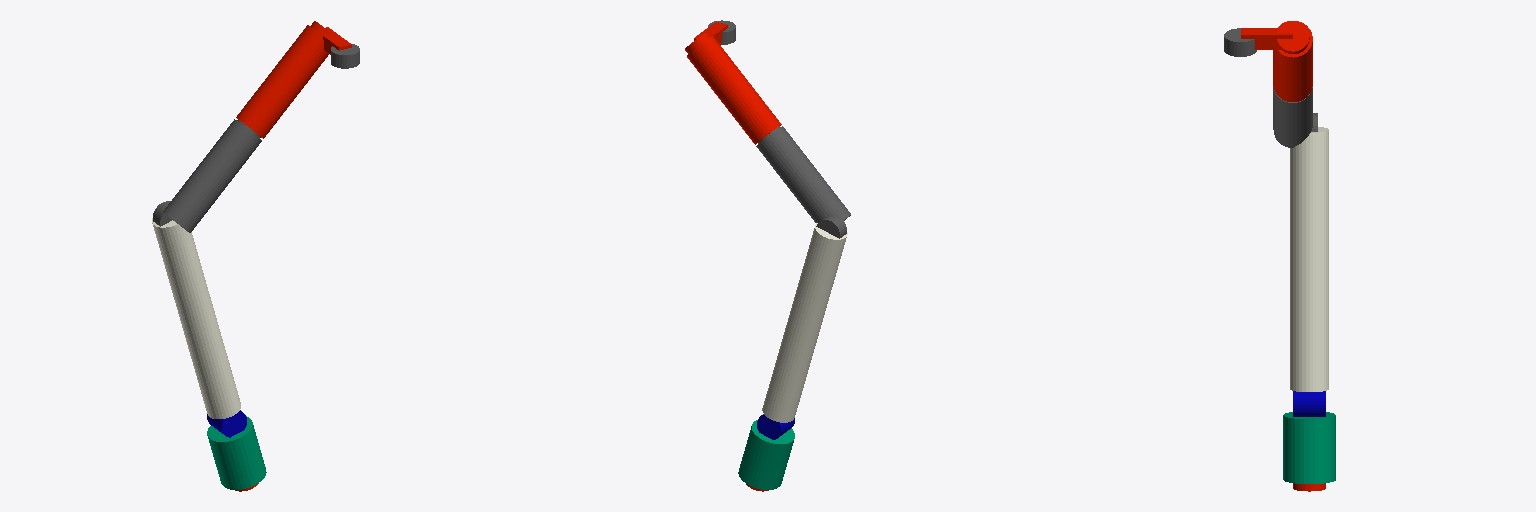
robot.urdf — prosthetic:
<?xml version="0.0" ?>
<robot name="prosthetic" >



<material name="scarlet">
    <color rgba="0.89 0.13 0.0 1"/>
</material>
<material name="grey">
    <color rgba="0.4 0.4 0.4 1.0"/>
</material>
 <material name="silver">
    <color rgba="0.913725490196 0.913725490196 0.847058823529 1.0"/>
  </material>



  <link name="link0"/>
  <joint name="joint0" type="revolute">
    <parent link="link0"/>
    <child link="jlink0"/>
    <origin rpy="0 0 0" xyz="0 0 0"/> 
    <axis xyz="0 0 1"/>
    <limit lower="-3.1415" upper="3.1415" effort="1.4" velocity="0.25"/>
  </joint>

  <link name="jlink0">
    <inertial>
      <origin rpy="0 0 0" xyz="0 0 0"/>
       <mass value=".01"/>
       <inertia ixx="0" ixy="0" ixz="0" iyy="0" iyz="0" izz="0"/>
    </inertial>
    <visual>
      <origin rpy="0 0 0" xyz="0 0 0"/>
      <geometry>
        <cylinder radius="0.025" length="0.025"/>
      </geometry>
       <material name="grey"/>
    </visual>
    <collision>
      <origin rpy="0 0 0" xyz="0 0 0"/>
      <geometry>
        <cylinder radius="0.025" length="0.025"/>
      </geometry>
    </collision>
  </link>

  <link name="link1">
    <inertial>
      <origin rpy="0 0 0" xyz="0 0 0"/>
       <mass value=".000000001"/>
       <inertia ixx="0" ixy="0" ixz="0" iyy="0" iyz="0" izz="0"/>
    </inertial>
    <visual>
      <origin rpy="0 0 0" xyz="0 0 0"/>
      <geometry>
       <!-- <cylinder radius="0.025" length="0.125"/> -->
       <box size = "0.025 0.08 0.025"/>
      </geometry>
       <material name="scarlet"/> 
    </visual>
    <collision>
      <origin rpy="0 0 0" xyz="0 0 0"/>
      <geometry>
       <box size = "0.025 0.08 0.025"/>
      </geometry>
    </collision>
  </link>

  <joint name="joint1f" type="fixed">
    <parent link="jlink0"/>
    <child link="link1"/>
    <origin rpy="0 0 0" xyz="0 0.04 0.00625"/> 
  </joint>

  <link name="jlink1">
    <inertial>
      <origin rpy="0 0 0" xyz="0 0 0"/>
       <mass value=".01"/>
       <inertia ixx="0" ixy="0" ixz="0" iyy="0" iyz="0" izz="0"/>
    </inertial>
    <visual>
      <origin rpy="0 0 0" xyz="0 0 0"/>
      <geometry>
        <cylinder radius="0.025" length="0.025"/>
      </geometry>
       <material name="scarlet"/>
    </visual>
    <collision>
      <origin rpy="0 0 0" xyz="0 0 0"/>
      <geometry>
        <cylinder radius="0.025" length="0.025"/>
      </geometry>
    </collision>
</link>

  <joint name="joint1" type="revolute">
    <parent link="link1"/>
    <child link="jlink1"/>
    <origin rpy="0 0.785398163397 0" xyz="0 0.04 0"/> 
    <axis xyz="0 1 0"/>
    <limit lower="-3.1415" upper="3.1415" effort="1.4" velocity="0.25"/>  
  </joint>

  <link name="link2">
    <inertial>
      <origin rpy="0 0 0" xyz="0 0 0"/>
       <mass value=".000000001"/>
       <inertia ixx="0" ixy="0" ixz="0" iyy="0" iyz="0" izz="0"/>
    </inertial>
    <visual>
      <origin rpy="0 0 0" xyz="0 0 0"/>
      <geometry>
       <cylinder radius="0.03" length="0.2"/>
      </geometry>
       <material name="scarlet"/> 
    </visual>
    <collision>
      <origin rpy="0 0 0" xyz="0 0 0"/>
      <geometry>
       <cylinder radius="0.03" length="0.2"/>
      </geometry>
    </collision>
</link>

<joint name="joint2f" type="fixed">
    <parent link="jlink1"/>
    <child link="link2"/>
    <origin rpy="0 0 0" xyz="0 0  -0.1"/>   
</joint>

<link name="jlink2">
    <inertial>
      <origin rpy="0 0 0" xyz="0 0 0"/>
       <mass value=".01"/>
       <inertia ixx="0" ixy="0" ixz="0" iyy="0" iyz="0" izz="0"/>
    </inertial>
    <visual>
      <origin rpy="0 0 0" xyz="0 0 0"/>
      <geometry>
        <cylinder radius="0.025" length="0.025"/>
      </geometry>
       <material name="grey"/>
    </visual>
    <collision>
      <origin rpy="0 0 0" xyz="0 0 0"/>
      <geometry>
        <cylinder radius="0.025" length="0.025"/>
      </geometry>
    </collision>
</link>

<joint name="joint2" type="revolute">
    <parent link="link2"/>
    <child link="jlink2"/>
    <origin rpy="0 0 0" xyz="0 0 -0.1"/> 
    <axis xyz="0 0 1"/>
    <limit lower="-3.1415" upper="3.1415" effort="1.4" velocity="0.25"/>  
  </joint>

  <link name="link3">
    <inertial>
      <origin rpy="0 0 0" xyz="0 0 0"/>
       <mass value=".000000001"/>
       <inertia ixx="0" ixy="0" ixz="0" iyy="0" iyz="0" izz="0"/>
    </inertial>
    <visual>
      <origin rpy="0 0 0" xyz="0 0 0"/>
      <geometry>
       <cylinder radius="0.03" length="0.2"/>
      </geometry>
       <material name="grey"/> 
    </visual>
    <collision>
      <origin rpy="0 0 0" xyz="0 0 0"/>
      <geometry>
       <cylinder radius="0.03" length="0.2"/>
      </geometry>
    </collision>
</link>

<joint name="joint3f" type="fixed">
    <parent link="jlink2"/>
    <child link="link3"/>
    <origin rpy="0 0 0" xyz="0 0  -0.1035"/>   
</joint>

<link name="jlink3">
    <inertial>
      <origin rpy="0 0 0" xyz="0 0 0"/>
       <mass value=".01"/>
       <inertia ixx="0" ixy="0" ixz="0" iyy="0" iyz="0" izz="0"/>
    </inertial>
    <visual>
      <origin rpy="1.5707 0 0" xyz="0 0 0"/>
      <geometry>
        <cylinder radius="0.025" length="0.025"/>
      </geometry>
       <material name="grey"/>
    </visual>
    <collision>
      <origin rpy="1.5707 0 0" xyz="0 0 0"/>
      <geometry>
        <cylinder radius="0.025" length="0.025"/>
      </geometry>
    </collision>
</link>

<joint name="joint3" type="revolute">
    <parent link="link3"/>
    <child link="jlink3"/>
    <origin rpy="0 -1.06 0" xyz="0 0.025 -0.1"/> 
    <axis xyz="0 1 0"/>
    <limit lower="-3.1415" upper="3.1415" effort="1.4" velocity="0.25"/>  
  </joint>

  <link name="link4">
    <inertial>
      <origin rpy="0 0 0" xyz="0 0 0"/>
       <mass value=".000000001"/>
       <inertia ixx="0" ixy="0" ixz="0" iyy="0" iyz="0" izz="0"/>
    </inertial>
    <visual>
      <origin rpy="0 0 0" xyz="0 0 0"/>
      <geometry>
       <cylinder radius="0.03" length="0.4"/>
      </geometry>
       <material name="silver"/> 
    </visual>
    <collision>
      <origin rpy="0 0 0" xyz="0 0 0"/>
      <geometry>
       <cylinder radius="0.03" length="0.4"/>
      </geometry>
    </collision>
</link>

<joint name="joint4f" type="fixed">
    <parent link="jlink3"/>
    <child link="link4"/>
    <origin rpy="0 0 0" xyz="0 0  -0.2"/>   
</joint>

<link name="left_wrist">
    <inertial>
      <origin rpy="0 0 0" xyz="0.107996 0.000521 -0.017765"/>
      <mass value="0.550582"/>
      <inertia ixx="0.000476" ixy="-2.9e-05" ixz="0.001403" iyy="0.009564" iyz="-1.5e-05" izz="-9e-06"/>
    </inertial>
    <visual>
      <origin rpy="0 1.5707 1.5707 " xyz="0 0 0"/>
      <geometry>
        <cylinder radius="0.025" length="0.05"/>
      </geometry>
      <material name="blue">
        <color rgba="0.05 0.05 0.75 0.9"/>
      </material>
    </visual>
    <collision>
      <origin rpy="0 1.5707 1.5707" xyz="0 0 0"/>
      <geometry>
        <cylinder radius="0.025" length="0.05"/>
      </geometry>
    </collision>
  </link>
  <joint name="left_wrist_joint" type="revolute">
    <origin rpy="0 1.5707 0" xyz="0.0 0.0 -0.22"/>
    <parent link="link4"/>
    <child link="left_wrist"/>
    <axis xyz="0 1 0"/>
    <limit effort="1.4" lower="-1.57" upper="1.57" velocity="10"/>
  </joint>

  <link name="gripper_l_base">
    <inertial>
      <origin rpy="0 0 0" xyz="0 0 0"/>
      <mass value="0.2"/>
      <inertia ixx="0.0001" ixy="0" ixz="0" iyy="0.0001" iyz="0" izz="0.0001"/>
    </inertial>
    <visual>
      <origin rpy="0 1.5707 0" xyz="0 0 0"/>
      <geometry>
        <!-- <mesh filename="[local-path]/garage/kfp_v2/morpheus/models/yumi_description/meshes/gripper/base.stl"/> -->
        <cylinder radius="0.04" length="0.1"/>
      </geometry>
      <material name="Light_Grey"/>
    </visual>
    <collision>
      <origin rpy="0 1.5707 0" xyz="0 0 0"/>
      <geometry>
        <!-- <mesh filename="[local-path]/garage/kfp_v2/morpheus/models/yumi_description/meshes/gripper/coarse/base.stl"/> -->
       <cylinder radius="0.04" length="0.1"/>
      </geometry>
      <material name="Light_Grey"/>
    </collision>
  </link>

  <joint name="gripper_left_wrist_joint" type="revolute">
    <origin rpy="0 0 0" xyz="0.07 0 0"/>
    <parent link="left_wrist"/>
    <child link="gripper_l_base"/>
    <axis xyz="1 0 0"/>
    <limit effort="1.4" lower="-1.57" upper="1.57" velocity="10"/>
  </joint>

  <link name="left_gripper_ee">
    <inertial>
      <origin rpy="0 0 0" xyz="0 0 0"/>
      <mass value="0.2"/>
      <inertia ixx="0.0001" ixy="0" ixz="0" iyy="0.0001" iyz="0" izz="0.0001"/>
    </inertial>
    <visual>
      <origin rpy="0 1.5707 0" xyz="0 0 0"/>
      <geometry>        
       <cylinder radius="0.025" length="0.025"/>
      </geometry>
      <material name="scarlet"/>
    </visual>
    <collision>
      <origin rpy="0 1.5707 0" xyz="0 0 0"/>
      <geometry>
       <cylinder radius="0.025" length="0.025"/>
      </geometry> 
    </collision>
  </link>
  <joint name="left_ee_to_gripper_base" type="fixed">
    <origin rpy="0 0 0" xyz="0.05125 0.0 0"/>
    <parent link="gripper_l_base"/>
    <child link="left_gripper_ee"/>
  </joint>

   



  


</robot>

--- Render facts (derived) ---
The picture shows the robot from 3 angles, left to right: view 1: azimuth 30°, elevation 25°; view 2: azimuth 150°, elevation 25°; view 3: azimuth 270°, elevation 25°; orthographic projection.
Model prosthetic with 12 links and 11 joints (6 revolute, 5 fixed), rooted at link0, posed every joint at zero.
Visible links, largest first — view 1: link4, link3, link2, gripper_l_base, left_wrist, jlink0; view 2: link4, link2, link3, gripper_l_base, left_wrist; view 3: link4, gripper_l_base, link2, link3, left_wrist, jlink1, link1, jlink0.
Boxes of the visible links, x1=… form: link4: x1=152, y1=218, x2=240, y2=418; link3: x1=163, y1=119, x2=261, y2=232; link2: x1=236, y1=25, x2=328, y2=138; gripper_l_base: x1=207, y1=416, x2=266, y2=489; left_wrist: x1=207, y1=410, x2=246, y2=437; jlink0: x1=331, y1=44, x2=359, y2=68; link4: x1=762, y1=223, x2=847, y2=422; link2: x1=687, y1=36, x2=781, y2=144; link3: x1=756, y1=126, x2=850, y2=222; gripper_l_base: x1=738, y1=420, x2=794, y2=489; left_wrist: x1=757, y1=414, x2=794, y2=439; link4: x1=1290, y1=127, x2=1328, y2=391; gripper_l_base: x1=1283, y1=412, x2=1335, y2=483; link2: x1=1273, y1=21, x2=1312, y2=101; link3: x1=1273, y1=85, x2=1312, y2=147; left_wrist: x1=1293, y1=391, x2=1325, y2=416; jlink1: x1=1277, y1=21, x2=1309, y2=53; link1: x1=1241, y1=28, x2=1292, y2=49; jlink0: x1=1224, y1=28, x2=1256, y2=56.
Size in the robot's own frame: 0.3407 by 0.17 by 0.8516 metres.
Geometry: primitives only (box / cylinder / sphere), no mesh files.
